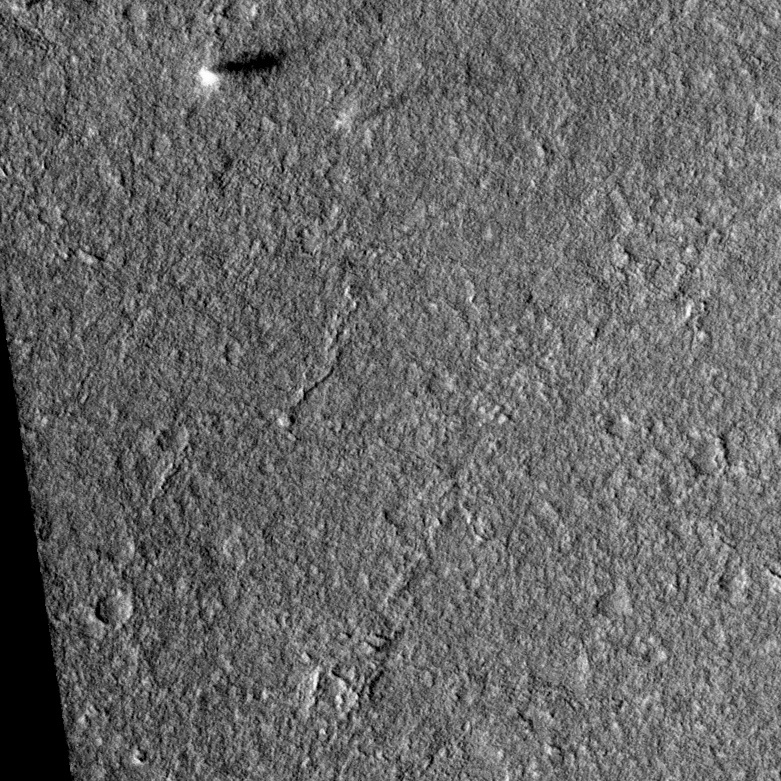dust_devil: (195, 44, 290, 90), (329, 88, 412, 134)
